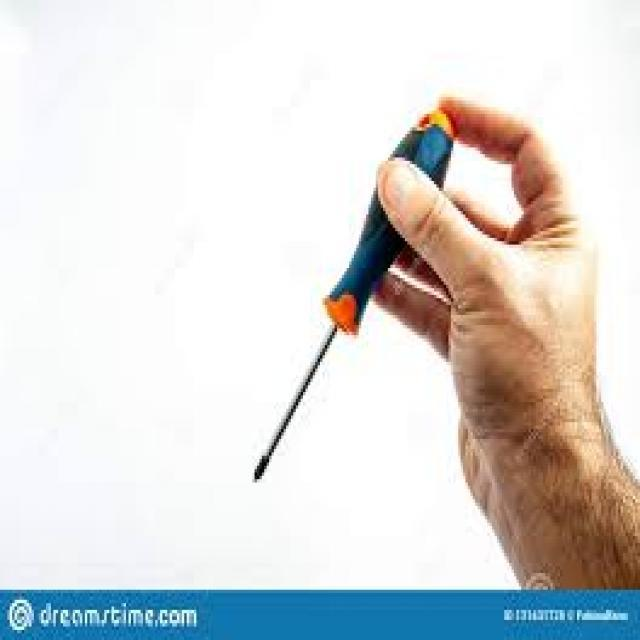screwdriver: (250, 109, 453, 491)
